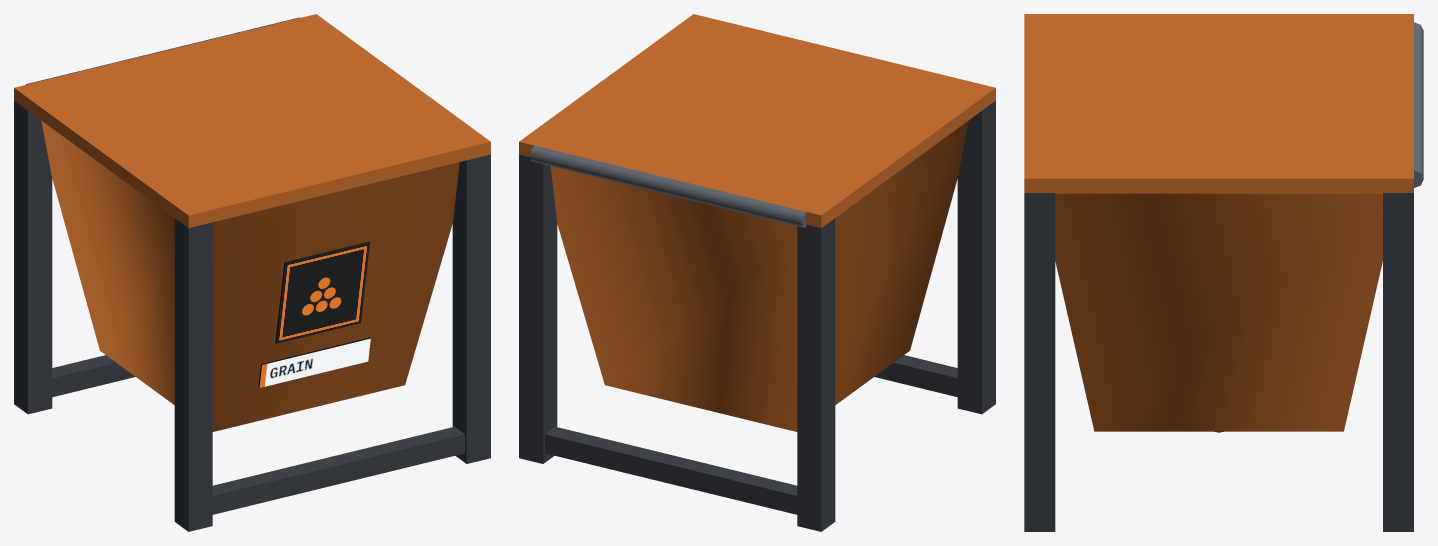
File: cargo_02_bulk.glb
3 views of the same model, side by side, from view 1: azimuth 30°, elevation 25°; view 2: azimuth 150°, elevation 25°; view 3: azimuth 270°, elevation 25° (orthographic). The views are drawn at different scales.
Visible parts, largest first — view 1: hopper, lid, post_3, post_4, post_1, brace_1, placard_front, manifest, brace_2; view 2: hopper, lid, post_1, post_3, post_2, brace_2, hinge, brace_1; view 3: hopper, lid, post_4, post_2, hinge, brace_1, brace_2.
Boxes of the visible parts, x1,y1,x2,y2 form: hopper: (41, 120, 459, 431); lid: (14, 14, 490, 227); post_3: (174, 218, 212, 531); post_4: (452, 154, 490, 463); post_1: (14, 100, 52, 414); brace_1: (179, 426, 464, 520); placard_front: (275, 241, 369, 343); manifest: (258, 337, 370, 387); brace_2: (15, 355, 135, 403); hopper: (550, 120, 968, 431); lid: (519, 14, 995, 227); post_1: (797, 218, 835, 531); post_3: (957, 100, 995, 414); post_2: (519, 154, 557, 463); brace_2: (545, 426, 833, 514); hinge: (530, 145, 806, 227); brace_1: (874, 355, 994, 400); hopper: (1055, 193, 1382, 431); lid: (1024, 14, 1413, 192); post_4: (1024, 193, 1055, 531); post_2: (1383, 193, 1413, 531); hinge: (1414, 22, 1423, 187); brace_1: (1028, 500, 1051, 521); brace_2: (1386, 500, 1409, 521).
Size of the model in its own units: 1 by 1 by 1.03.
Materials: 7 (2 with a texture image).
